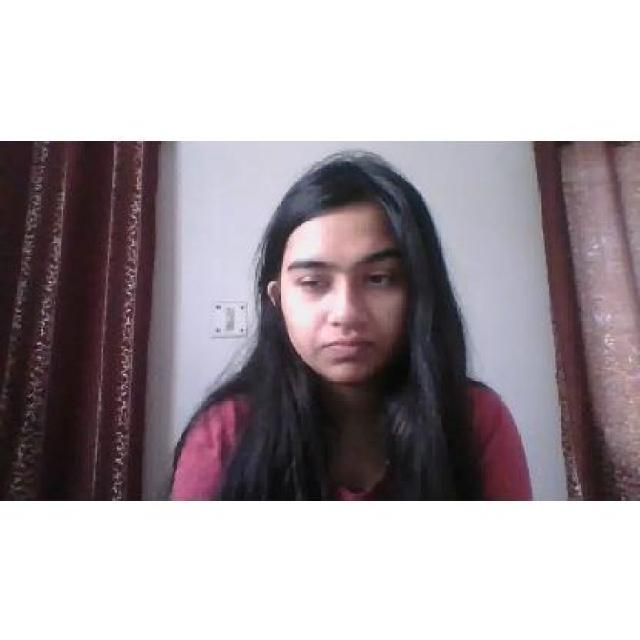attentif: (268, 159, 412, 383)
